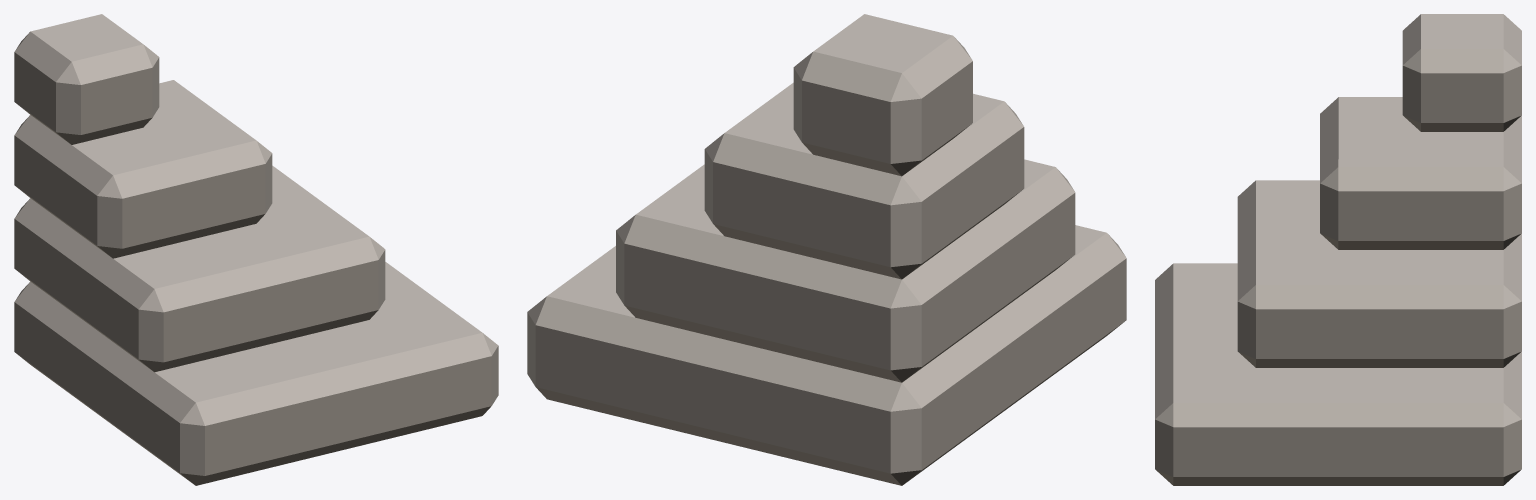
Rendered from m_kub_stone_stairs_piled_cornerOut.FBX.
3 renders of one model, left to right at view 1: azimuth 30°, elevation 25°; view 2: azimuth 150°, elevation 25°; view 3: azimuth 270°, elevation 25°, orthographic. The views are drawn at different scales.
Visible parts, largest first — view 1: m_kub_stone_stairs_piled_cornerOut; view 2: m_kub_stone_stairs_piled_cornerOut; view 3: m_kub_stone_stairs_piled_cornerOut.
Boxes of the visible parts, x1,y1,x2,y2 form: m_kub_stone_stairs_piled_cornerOut: (14, 14, 498, 485); m_kub_stone_stairs_piled_cornerOut: (527, 14, 1126, 485); m_kub_stone_stairs_piled_cornerOut: (1155, 14, 1521, 485).
Bounding box in the file's own units: 2 × 2 × 2.
